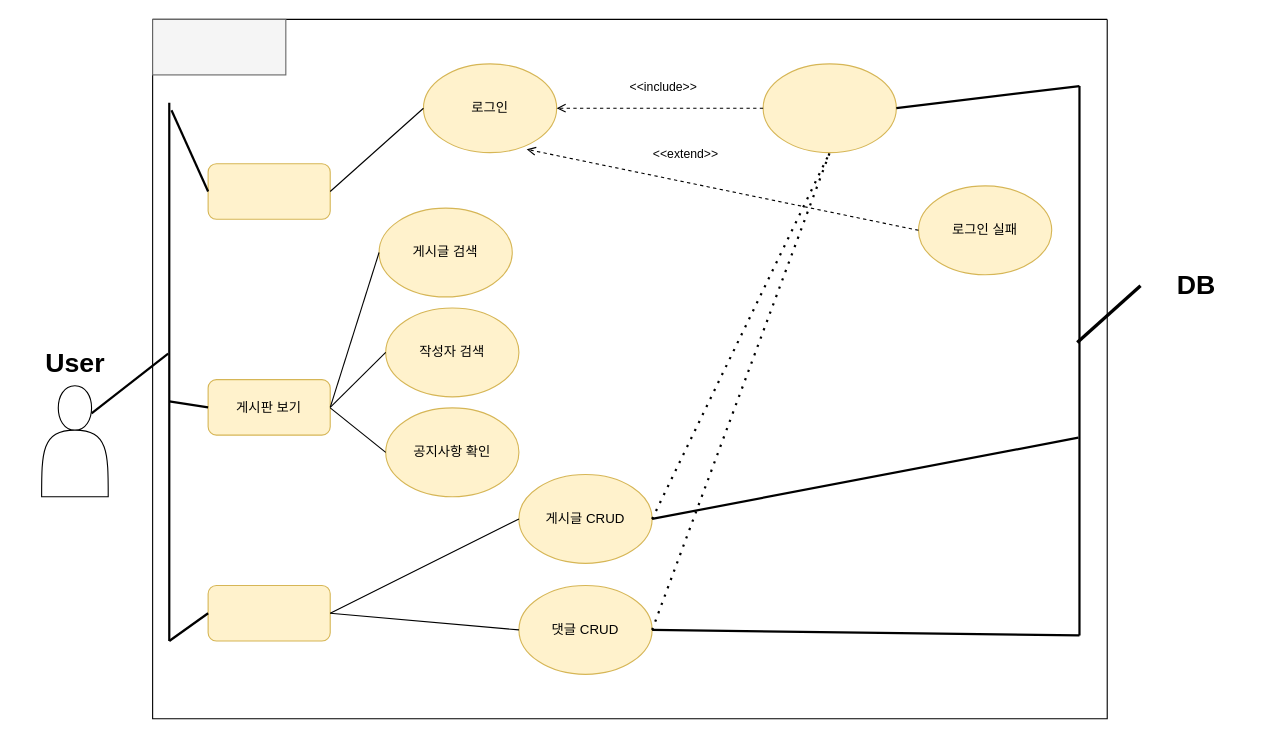
This 1270x738 diagram has some shape labels left out. Each missing label, with the centre of its shape:
게시 글 보기: the point at 268,612
게시판 서비스: the point at 219,46
회원가입: the point at 268,191
회원정보: the point at 829,108
